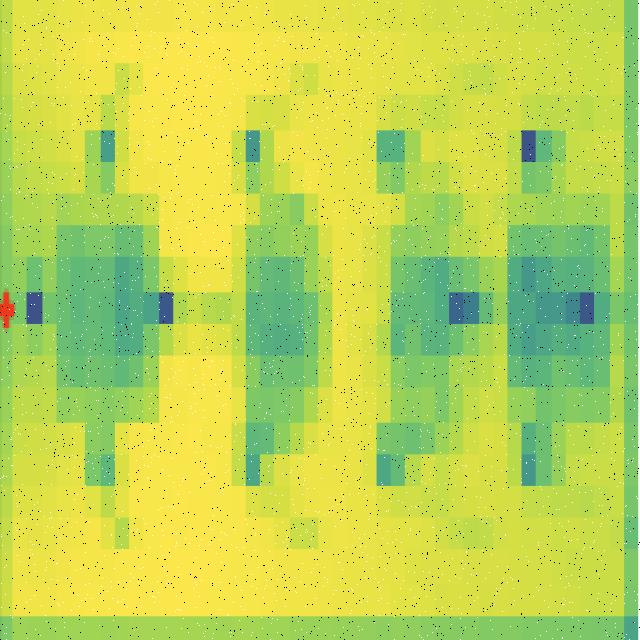Glass: (378, 198, 480, 457), (505, 203, 612, 424)
Metal: (54, 194, 160, 426)
Wood: (228, 198, 333, 450)
